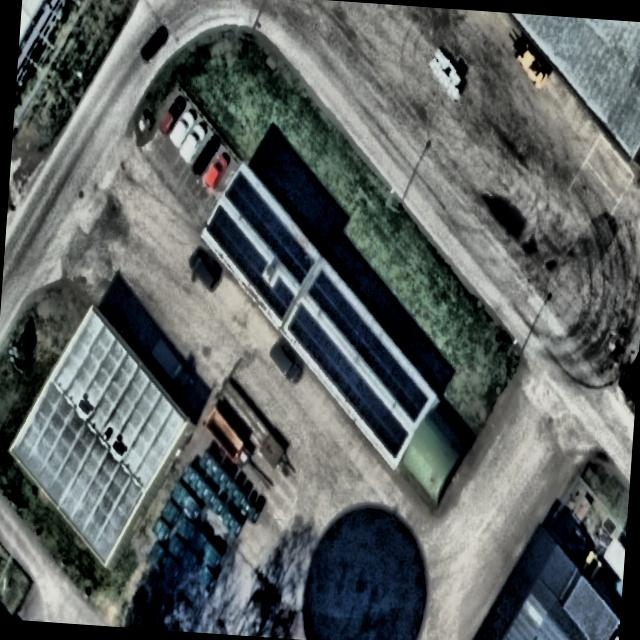roof_pv: (369, 393, 412, 458), (222, 168, 273, 212), (266, 228, 318, 270), (286, 300, 322, 355), (396, 370, 431, 426), (320, 288, 358, 338), (238, 207, 286, 246), (358, 322, 388, 382), (349, 365, 378, 427), (313, 320, 342, 378), (378, 346, 408, 400), (331, 352, 358, 410), (206, 202, 236, 252), (225, 228, 257, 272), (269, 272, 296, 324), (345, 311, 373, 358), (306, 266, 334, 312), (243, 250, 269, 296), (280, 264, 311, 290), (261, 281, 273, 311)
